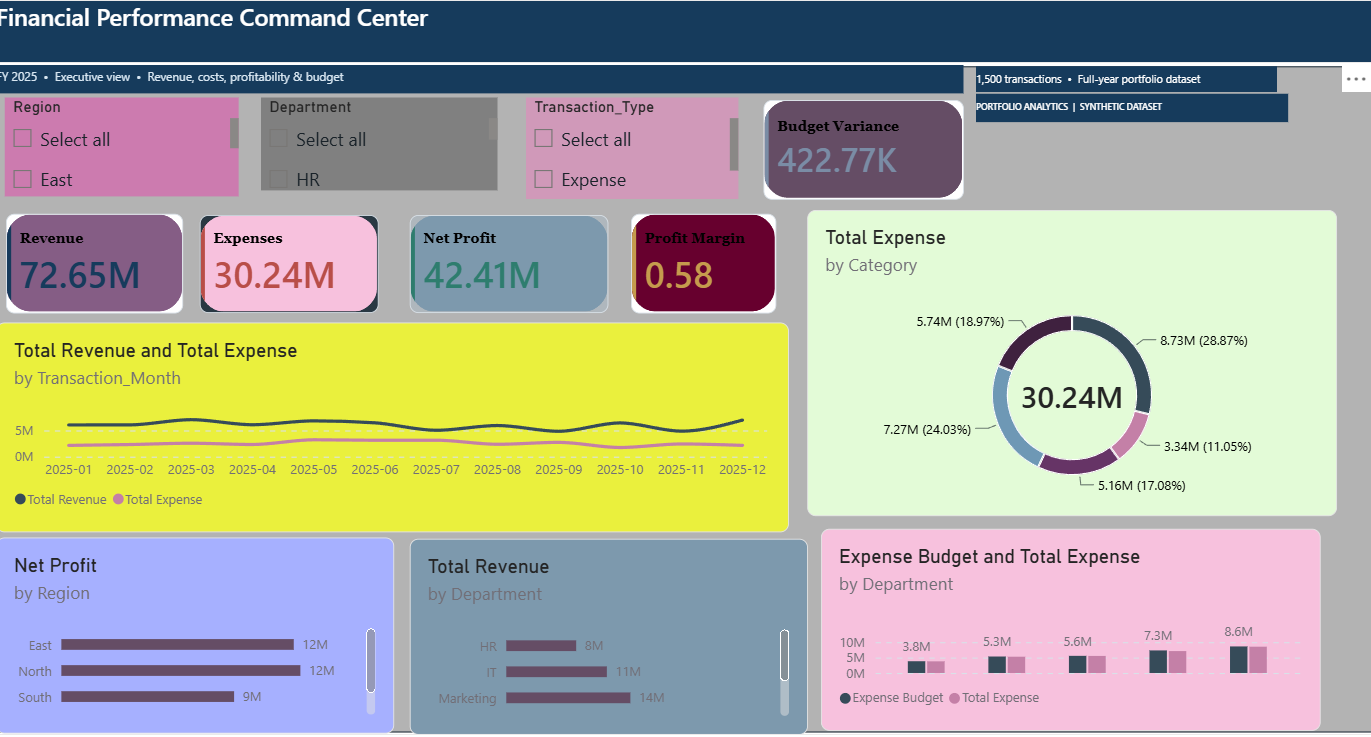

This screenshot's page, from the dashboard's own definition file:
{"tool":"powerbi","page":{"name":"Financial Performance Command Center","canvas":[1280,720],"ordinal":0},"visuals":[{"type":"shape","box":[0,80.2,1280.2,619.8],"z":1500,"group":"g1"},{"type":"clusteredColumnChart","title":"Expense Budget vs Actual","fields":{"Category":["FinancialTransactions.Department"],"Y":["FinancialTransactions.Expense Budget","FinancialTransactions.Total Expense"]},"box":[767.4,510.9,465.1,188.4],"z":2000,"group":"g1"},{"type":"donutChart","title":"Expense Mix by Category","fields":{"Category":["FinancialTransactions.Category"],"Y":["FinancialTransactions.Total Expense"]},"box":[754.7,214.4,493,284.9],"z":3000,"group":"g1"},{"type":"clusteredBarChart","title":"Net Profit by Region","fields":{"Category":["FinancialTransactions.Region"],"Y":["FinancialTransactions.Net Profit"]},"box":[0,518.5,370,182],"z":5000,"group":"g1"},{"type":"clusteredBarChart","title":"Revenue by Department","fields":{"Category":["FinancialTransactions.Department"],"Y":["FinancialTransactions.Total Revenue"]},"box":[385,519.8,370,182],"z":6000,"group":"g1"},{"type":"textbox","box":[911.6,79.8,280,24],"z":7000,"group":"g1"},{"type":"slicer","title":"Department","fields":{"Values":["FinancialTransactions.Department"]},"box":[246.2,109.5,219.8,86],"z":8000,"group":"g1"},{"type":"slicer","title":"Region","fields":{"Values":["FinancialTransactions.Region"]},"box":[8.1,108.9,217.4,91.9],"z":9000,"group":"g1"},{"type":"slicer","title":"Transaction Type","fields":{"Values":["FinancialTransactions.Transaction_Type"]},"box":[492.5,109.5,197.7,94.2],"z":10000,"group":"g1"},{"type":"textbox","box":[0,79.1,900,26],"z":11000,"group":"g1"},{"type":"textbox","box":[0,18.6,1280,58],"z":12000,"group":"g1"},{"type":"lineChart","title":"Revenue vs Expense Trend","fields":{"Category":["FinancialTransactions.Transaction_Month"],"Y":["FinancialTransactions.Total Revenue","FinancialTransactions.Total Expense"]},"box":[0,318.6,737.5,195],"z":13000,"group":"g1"},{"type":"cardVisual","fields":{"Data":["FinancialTransactions.Total Revenue"]},"box":[8.8,217,165,92.5],"z":14000,"group":"g1"},{"type":"cardVisual","fields":{"Data":["FinancialTransactions.Total Expense"]},"box":[190,218.3,166.2,91.2],"z":15000,"group":"g1"},{"type":"cardVisual","fields":{"Data":["FinancialTransactions.Net Profit"]},"box":[385,218.3,185,91.2],"z":16000,"group":"g1"},{"type":"cardVisual","fields":{"Data":["FinancialTransactions.Profit Margin"]},"box":[591.2,217,135,92.5],"z":17000,"group":"g1"},{"type":"cardVisual","fields":{"Data":["FinancialTransactions.Expense Budget Variance"]},"box":[713.8,111.1,186.2,92.5],"z":18000,"group":"g1"},{"type":"textbox","box":[911.6,105.4,290.7,26.7],"z":19502,"group":"g1"},{"type":"group","id":"g1","title":"Group 1","box":[0,18.6,1280.2,683.2],"z":19503}]}

Visuals, with their boxes on the page's 1280x720 design canvas (x1, y1, x2, y2). These are canvas units, not pixel positions in the 1371x737 screenshot, which may show the page scaled, cropped or inside an application window:
shape: bbox=(0, 80, 1280, 700)
"Expense Budget vs Actual" clusteredColumnChart: bbox=(767, 511, 1232, 699)
"Expense Mix by Category" donutChart: bbox=(755, 214, 1248, 499)
"Net Profit by Region" clusteredBarChart: bbox=(0, 518, 370, 700)
"Revenue by Department" clusteredBarChart: bbox=(385, 520, 755, 702)
textbox: bbox=(912, 80, 1192, 104)
"Department" slicer: bbox=(246, 110, 466, 196)
"Region" slicer: bbox=(8, 109, 226, 201)
"Transaction Type" slicer: bbox=(492, 110, 690, 204)
textbox: bbox=(0, 79, 900, 105)
textbox: bbox=(0, 19, 1280, 77)
"Revenue vs Expense Trend" lineChart: bbox=(0, 319, 738, 514)
cardVisual - FinancialTransactions.Total Revenue: bbox=(9, 217, 174, 310)
cardVisual - FinancialTransactions.Total Expense: bbox=(190, 218, 356, 310)
cardVisual - FinancialTransactions.Net Profit: bbox=(385, 218, 570, 310)
cardVisual - FinancialTransactions.Profit Margin: bbox=(591, 217, 726, 310)
cardVisual - FinancialTransactions.Expense Budget Variance: bbox=(714, 111, 900, 204)
textbox: bbox=(912, 105, 1202, 132)
"Group 1" group: bbox=(0, 19, 1280, 702)
